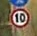limite 10: (9, 7, 30, 28)
